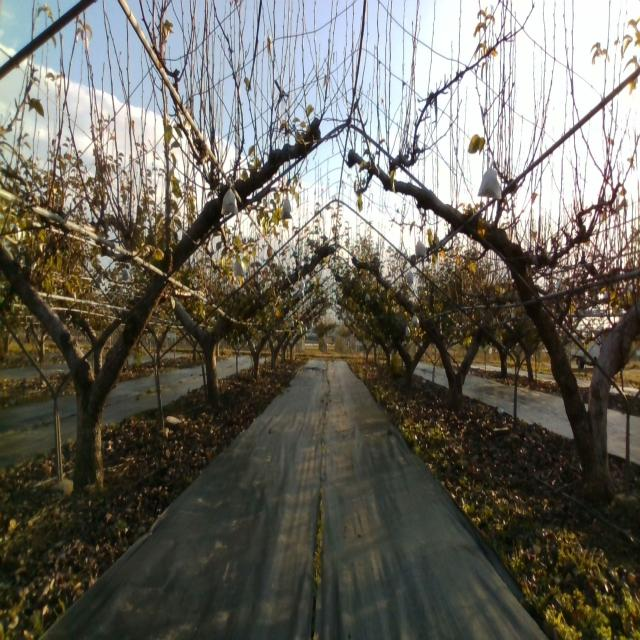pearbags: (477, 158, 502, 200), (221, 180, 238, 216), (416, 235, 428, 259), (281, 198, 293, 221), (234, 258, 247, 278)
